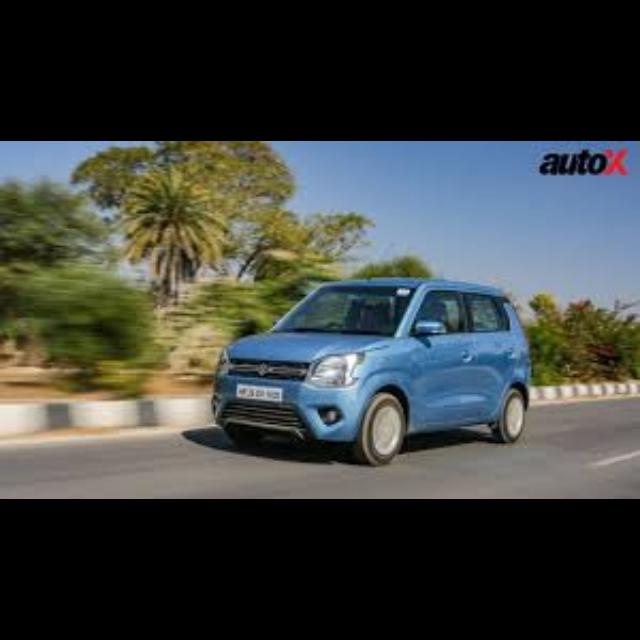number-plate: (233, 383, 282, 402)
vehicles: (195, 273, 538, 469)
